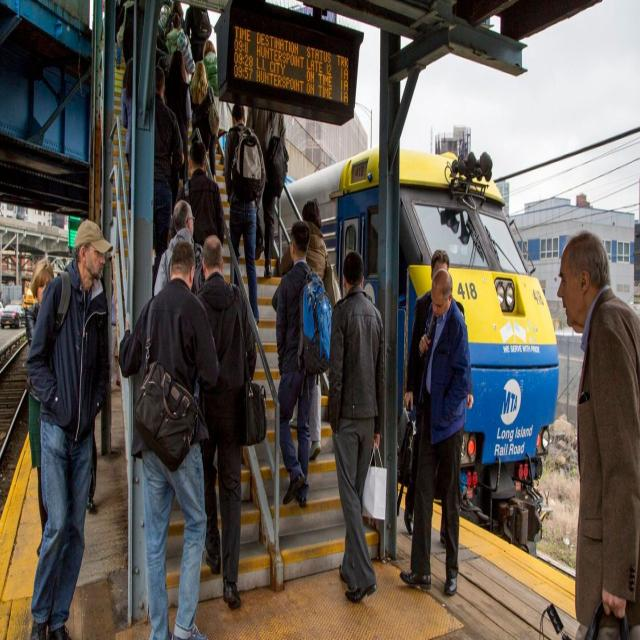body: (117, 234, 223, 639), (24, 218, 114, 640), (553, 229, 640, 639), (392, 247, 476, 556), (398, 267, 472, 598), (194, 234, 258, 609), (327, 246, 387, 607), (275, 222, 331, 510), (280, 197, 340, 462), (23, 258, 57, 564), (222, 102, 266, 328), (152, 64, 184, 298), (245, 104, 287, 280), (94, 0, 163, 90), (174, 139, 226, 249), (153, 199, 204, 299), (165, 48, 193, 218), (202, 36, 230, 182), (190, 61, 220, 185), (120, 57, 134, 219), (83, 414, 105, 516), (183, 8, 213, 62), (164, 12, 190, 73), (110, 277, 122, 393), (163, 0, 186, 39), (166, 213, 178, 258), (100, 270, 114, 296)
